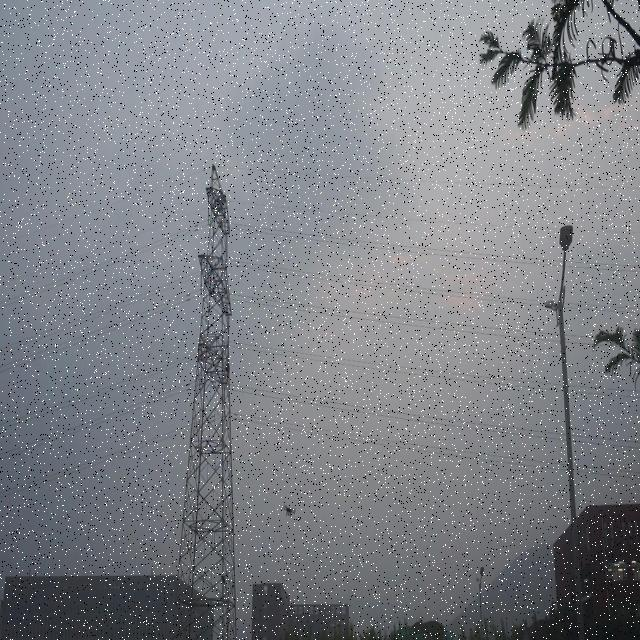UAV: (282, 504, 296, 518)
